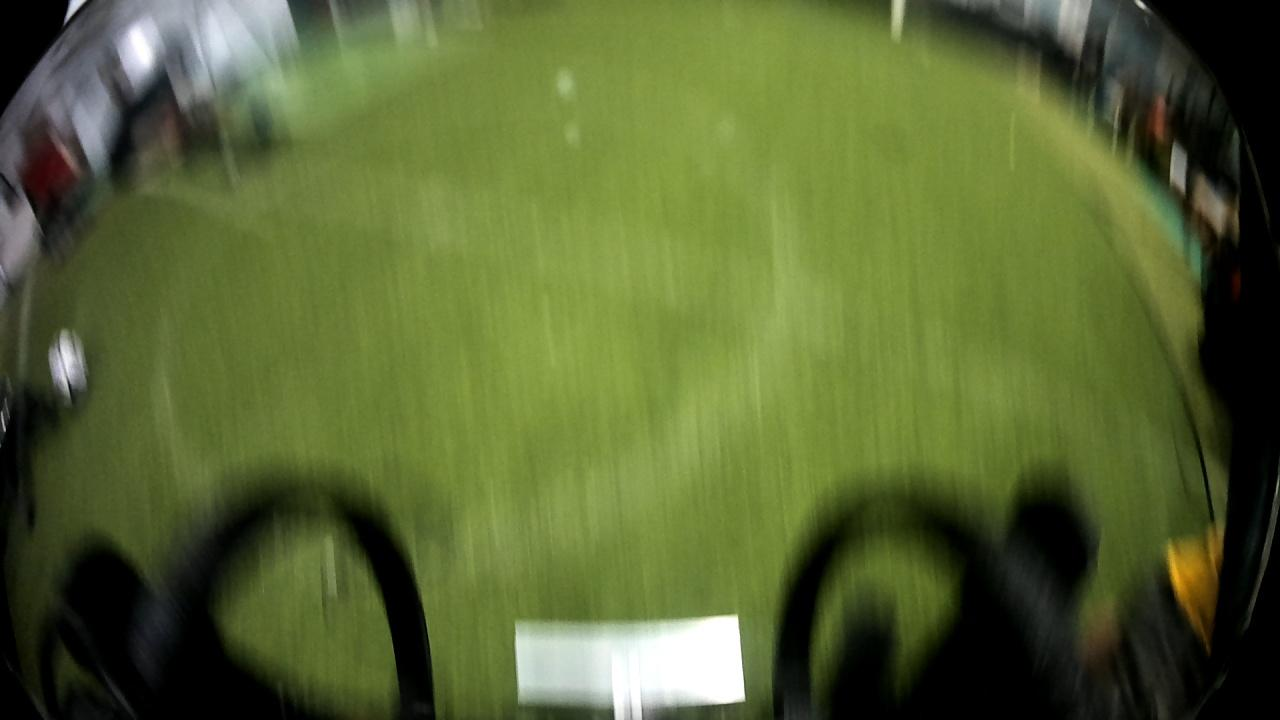ball: (42, 321, 99, 410)
